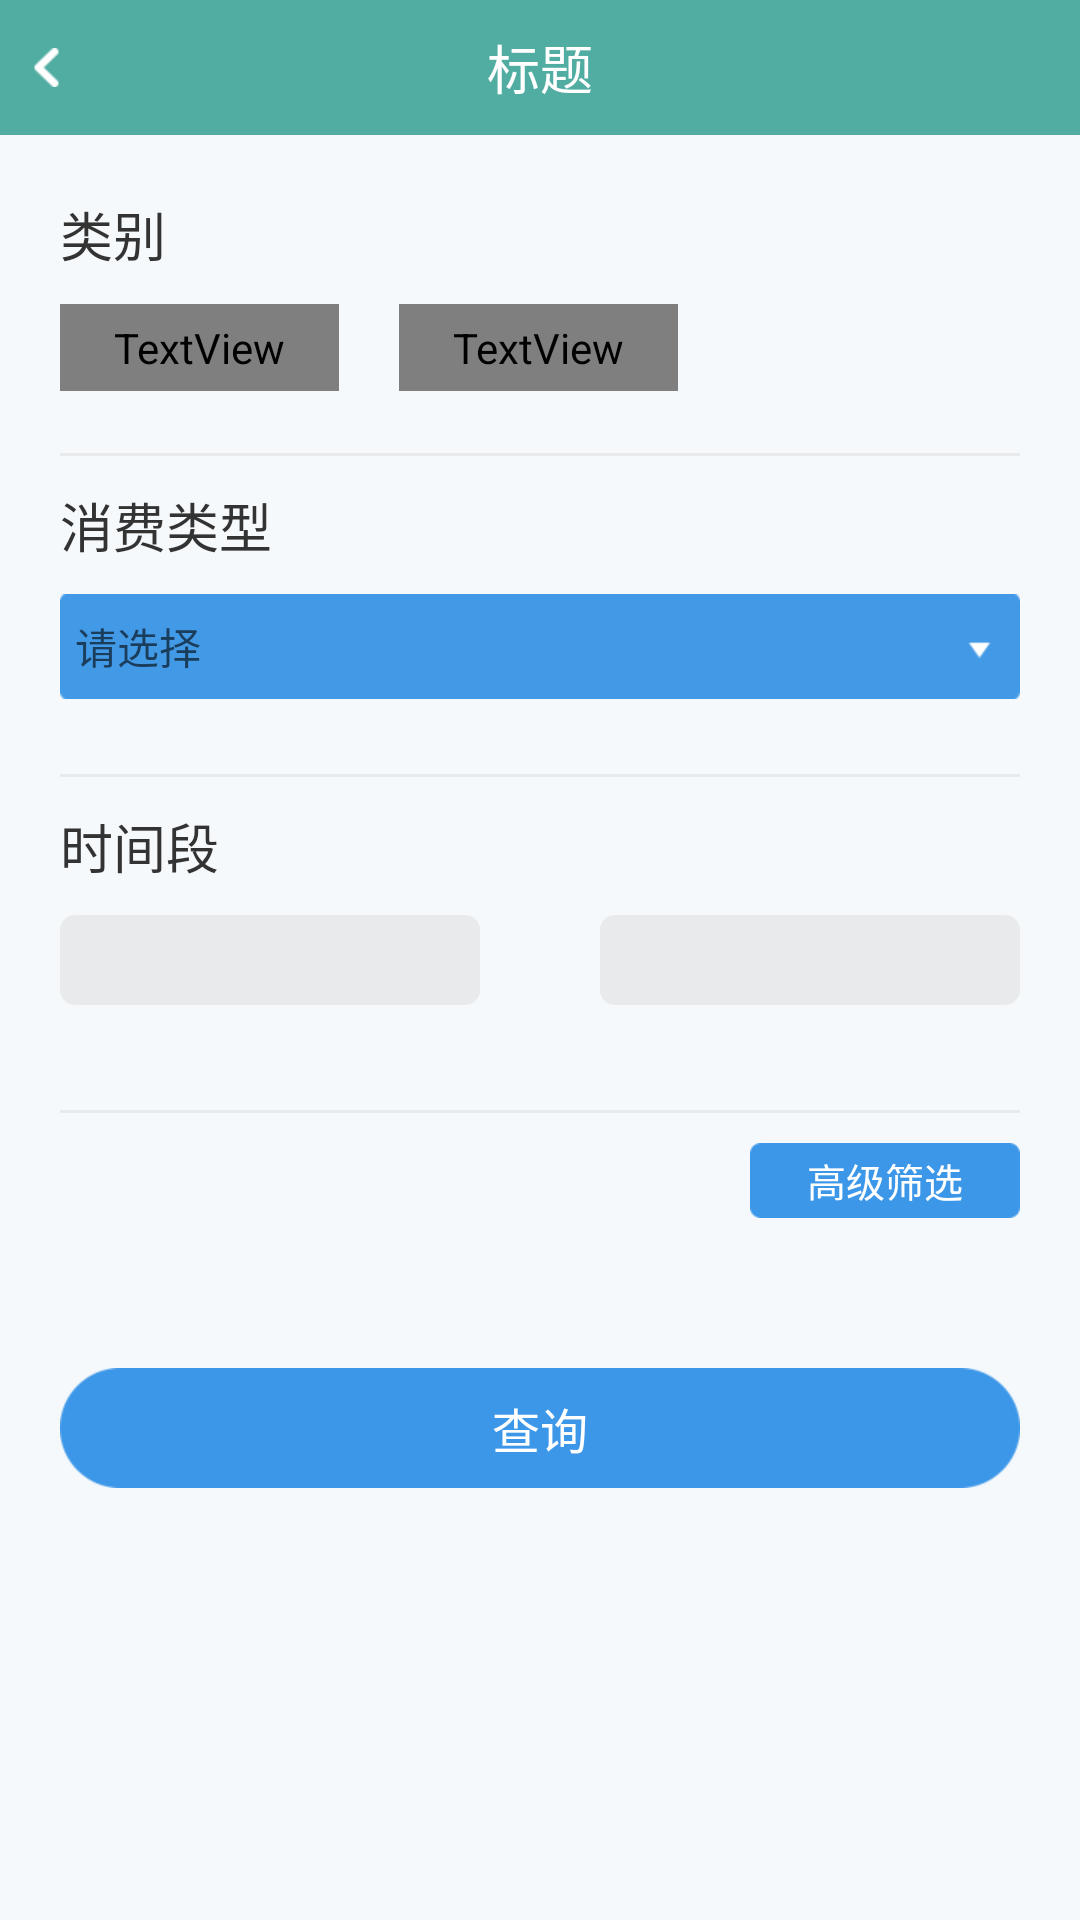

Icon click points for this 1080×1920 phone screenshot, format (x=x, y=y):
back index: (x=46, y=67)
